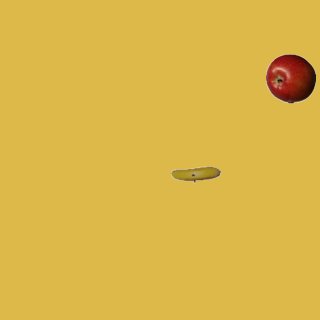Apple Braeburn: (265, 53, 315, 103)
Banana: (170, 149, 220, 199)
